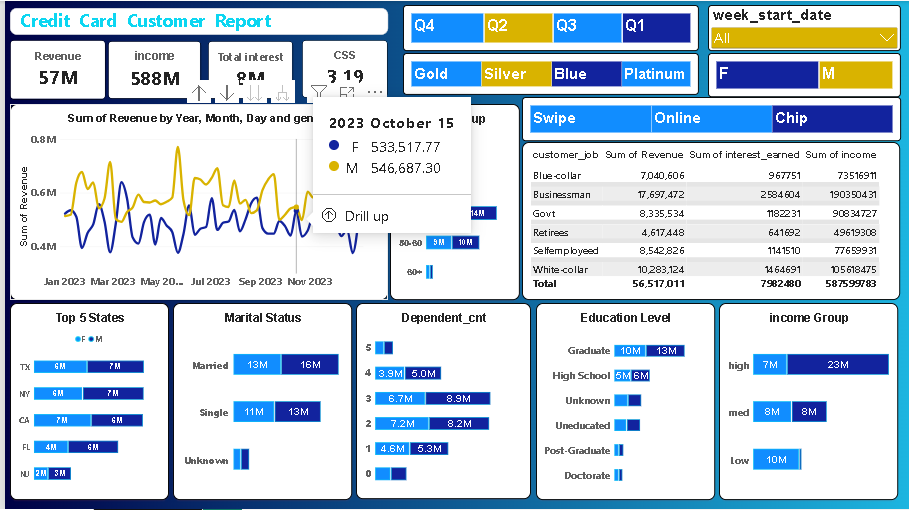

Layout of this report page (visuals, bound fields, positions):
{"tool":"powerbi","page":{"name":"CC Customer","canvas":[1920,1080],"ordinal":1},"visuals":[{"type":"textbox","box":[10.6,14.9,803.6,57.4],"z":0},{"type":"barChart","title":"income Group","fields":{"Category":["public cust_details.IncomeGroup"],"Series":["public cust_details.gender"],"Y":["Sum(public cc_details.Revenue)"]},"box":[1518,642,380.6,418.8],"z":1000},{"type":"tableEx","fields":{"Values":["public cust_details.customer_job","Sum(public cc_details.Revenue)","Sum(public cc_details.interest_earned)","Sum(public cust_details.income)"]},"box":[1099.1,299.8,803.6,335.9],"z":2000},{"type":"cardVisual","fields":{"Data":["Sum(public cc_details.Revenue)"]},"box":[10.6,82.9,203,126.7],"z":3000},{"type":"cardVisual","fields":{"Data":["Sum(public cust_details.income)"]},"box":[219,85,197.7,123.3],"z":4000},{"type":"cardVisual","fields":{"Data":["Sum(public cc_details.interest_earned)"]},"box":[431.6,85,180.7,123.3],"z":5000},{"type":"cardVisual","fields":{"Data":["Avg(public cust_details.cust_satisfaction_score)"]},"box":[631.4,82.9,182,123.3],"z":6000},{"type":"slicer","fields":{"Values":["public cc_details.week_start_date"]},"box":[1494.6,8.5,410.3,97.8],"z":7000},{"type":"treemap","fields":{"Group":["public cc_details.qtr"],"Values":["CountNonNull(public cc_details.client_num)"]},"box":[846.1,8.5,629.3,97.8],"z":8000},{"type":"treemap","fields":{"Group":["public cust_details.gender"],"Values":["CountNonNull(public cc_details.client_num)"]},"box":[1494.6,110.6,410.3,93.5],"z":9000},{"type":"treemap","fields":{"Group":["public cc_details.card_category"],"Values":["Avg(public cc_details.client_num)"]},"box":[846.1,110.6,629.3,89.3],"z":10000},{"type":"treemap","fields":{"Group":["public cc_details.use_chip"],"Values":["Avg(public cc_details.client_num)"]},"box":[1099.1,204.1,805.7,93.5],"z":11000},{"type":"lineChart","fields":{"Category":["public cc_details.week_start_date.Variation.Date Hierarchy.Year","public cc_details.week_start_date.Variation.Date Hierarchy.Month","public cc_details.week_start_date.Variation.Date Hierarchy.Day"],"Series":["public cust_details.gender"],"Y":["Sum(public cc_details.Revenue)"]},"box":[10.6,219,803.6,416.7],"z":12000},{"type":"barChart","title":"Age Group","fields":{"Category":["public cust_details.AgeGroup"],"Series":["public cust_details.gender"],"Y":["Sum(public cc_details.Revenue)"]},"box":[818.5,219,276.4,416.7],"z":13000},{"type":"barChart","title":"Marital Status","fields":{"Category":["public cust_details.marital_status"],"Series":["public cust_details.gender"],"Y":["Sum(public cc_details.Revenue)"]},"box":[357.2,642,380.6,418.8],"z":14000},{"type":"barChart","title":"Education Level","fields":{"Category":["public cust_details.education_level"],"Series":["public cust_details.gender"],"Y":["Sum(public cc_details.Revenue)"]},"box":[1128.9,642,380.6,418.8],"z":15000},{"type":"barChart","title":"Top 5 States","fields":{"Category":["public cust_details.state_cd"],"Series":["public cust_details.gender"],"Y":["Sum(public cc_details.Revenue)"]},"box":[10.6,642,338,418.8],"z":16000},{"type":"barChart","title":"Dependent_cnt","fields":{"Category":["public cust_details.dependent_count"],"Series":["public cust_details.gender"],"Y":["Sum(public cc_details.Revenue)"]},"box":[746.2,642,372,416.7],"z":17000}]}

Visuals, with their boxes in screenshot pixels (x1, y1, x2, y2), scaled from the page's 1920x1080 canvas onto the 909x510 screenshot:
textbox: l=5, t=7, r=385, b=34
"income Group" barChart: l=719, t=303, r=899, b=501
tableEx - public cust_details.customer_job x Sum(public cc_details.Revenue): l=520, t=142, r=901, b=300
cardVisual - Sum(public cc_details.Revenue): l=5, t=39, r=101, b=99
cardVisual - Sum(public cust_details.income): l=104, t=40, r=197, b=98
cardVisual - Sum(public cc_details.interest_earned): l=204, t=40, r=290, b=98
cardVisual - Avg(public cust_details.cust_satisfaction_score): l=299, t=39, r=385, b=97
slicer - public cc_details.week_start_date: l=708, t=4, r=902, b=50
treemap - public cc_details.qtr x CountNonNull(public cc_details.client_num): l=401, t=4, r=699, b=50
treemap - public cust_details.gender x CountNonNull(public cc_details.client_num): l=708, t=52, r=902, b=96
treemap - public cc_details.card_category x Avg(public cc_details.client_num): l=401, t=52, r=699, b=94
treemap - public cc_details.use_chip x Avg(public cc_details.client_num): l=520, t=96, r=902, b=141
lineChart - public cc_details.week_start_date.Variation.Date Hierarchy.Year x public cc_details.week_start_date.Variation.Date Hierarchy.Month: l=5, t=103, r=385, b=300
"Age Group" barChart: l=388, t=103, r=518, b=300
"Marital Status" barChart: l=169, t=303, r=349, b=501
"Education Level" barChart: l=534, t=303, r=715, b=501
"Top 5 States" barChart: l=5, t=303, r=165, b=501
"Dependent_cnt" barChart: l=353, t=303, r=529, b=500
